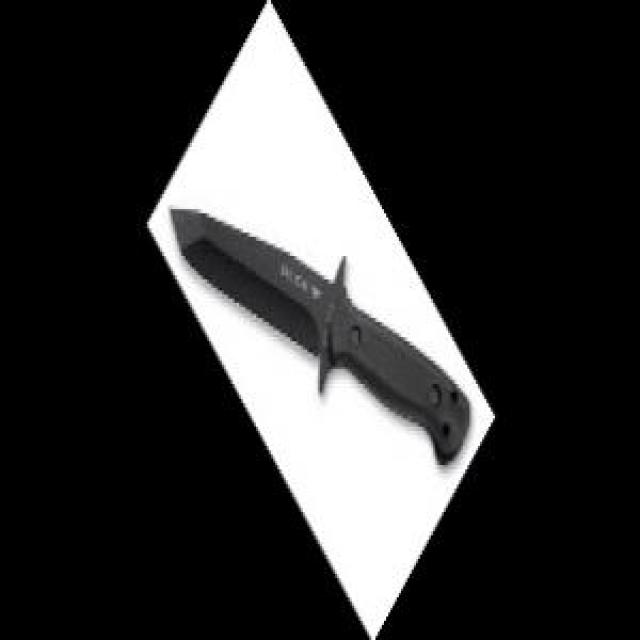knife: (166, 198, 472, 470)
